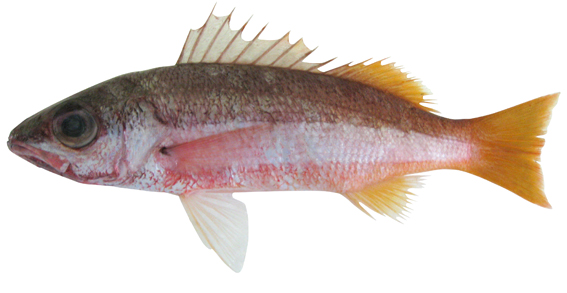fish: (6, 3, 561, 273)
